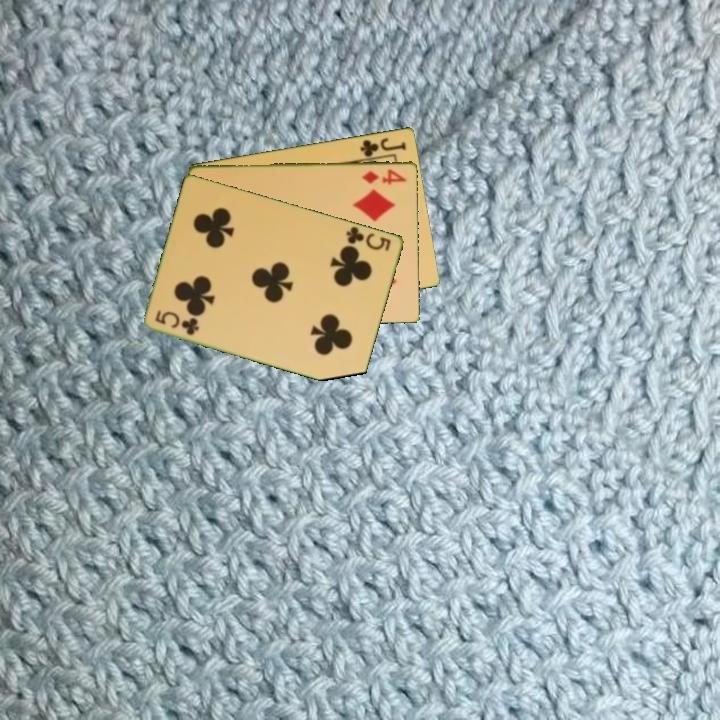4d: (358, 165, 409, 187)
5c: (152, 306, 202, 338), (343, 223, 394, 254)
Jc: (357, 134, 409, 160)
